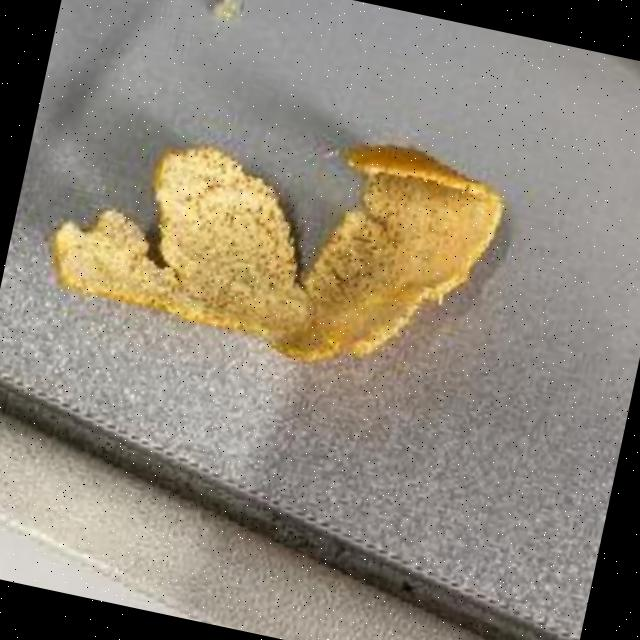orange-peel: (32, 68, 518, 400)
